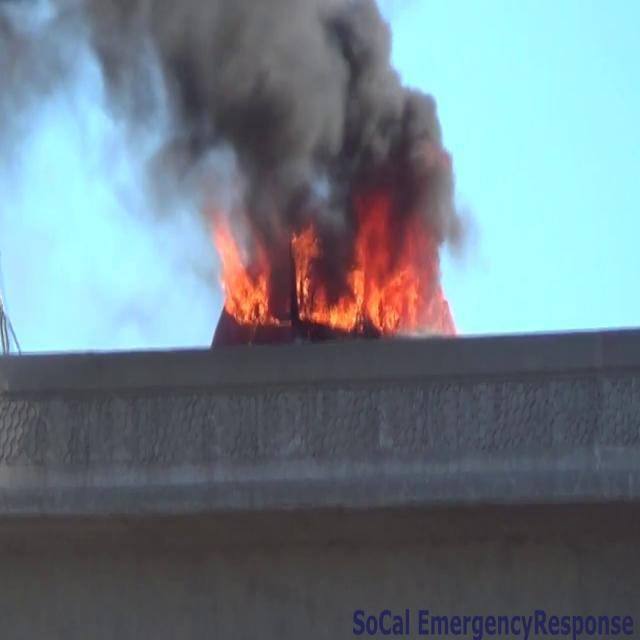Fire: (306, 247, 454, 341), (208, 222, 272, 332)
Smoke: (2, 0, 472, 266)
